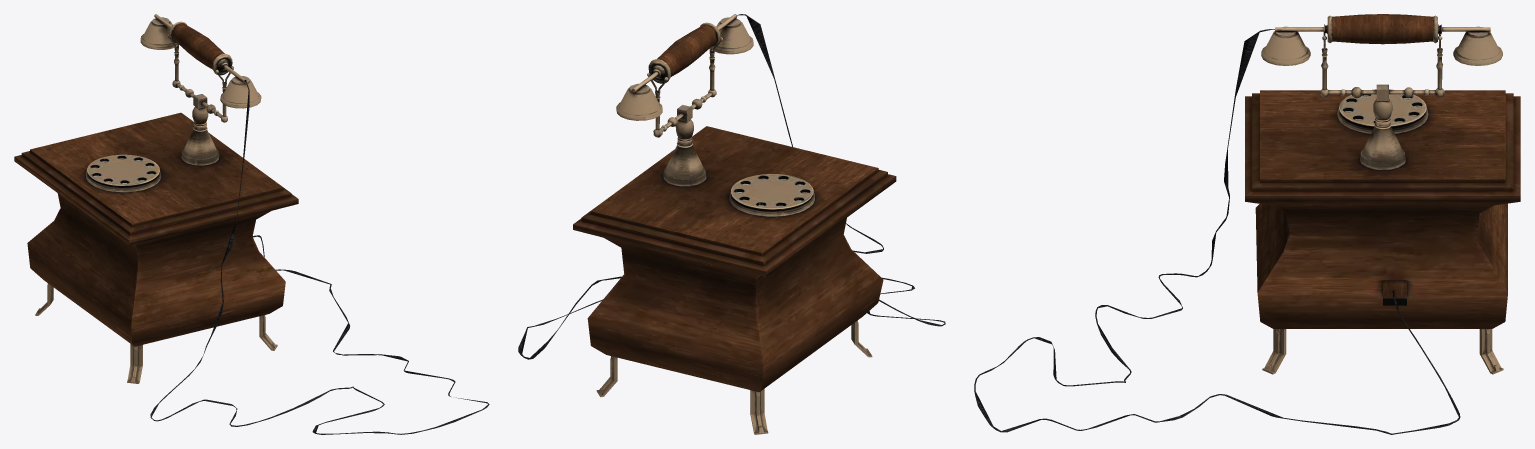
The model's file is telefone.glb.
3 views of the same model, side by side, from view 1: azimuth 30°, elevation 25°; view 2: azimuth 150°, elevation 25°; view 3: azimuth 270°, elevation 25° (orthographic). The views are drawn at different scales.
Visible parts, largest first — view 1: Wood_Wood_0, Phone_Phone_0, Cable_Cable_0, Feet_Feet_0; view 2: Wood_Wood_0, Phone_Phone_0, Cable_Cable_0, Feet_Feet_0; view 3: Wood_Wood_0, Phone_Phone_0, Cable_Cable_0, Feet_Feet_0.
Boxes of the visible parts, x1,y1,x2,y2 form: Wood_Wood_0: (14, 23, 298, 346); Phone_Phone_0: (85, 14, 261, 192); Cable_Cable_0: (150, 81, 489, 434); Feet_Feet_0: (35, 283, 277, 383); Wood_Wood_0: (573, 24, 896, 392); Phone_Phone_0: (616, 14, 814, 216); Cable_Cable_0: (518, 14, 945, 359); Feet_Feet_0: (596, 320, 872, 434); Wood_Wood_0: (1245, 14, 1520, 328); Phone_Phone_0: (1261, 15, 1502, 170); Cable_Cable_0: (974, 29, 1460, 434); Feet_Feet_0: (1262, 329, 1503, 374).
Bounding box in the file's own units: 4.06 × 4.02 × 5.84.
Materials: 5 (5 with a texture image).
